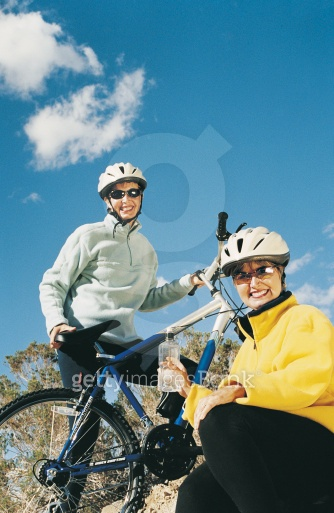helmet: (220, 226, 290, 310), (97, 162, 147, 220)
